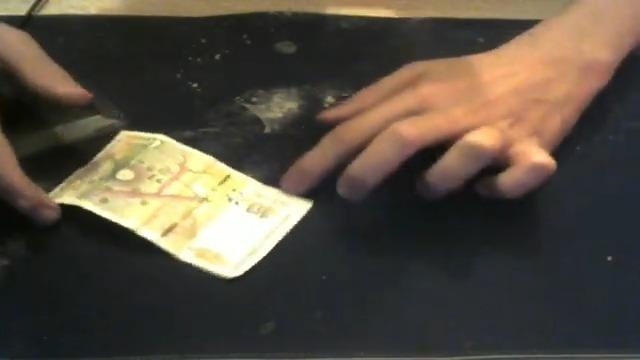10leva: (48, 130, 313, 281)
